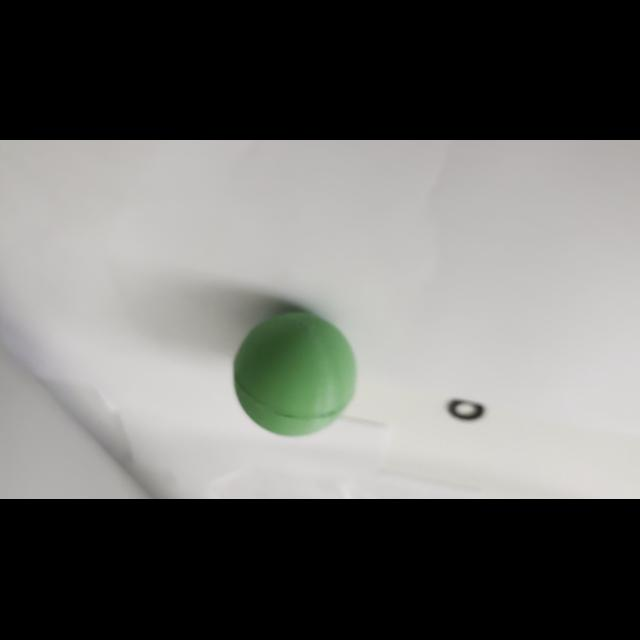objects: (231, 305, 363, 439)
